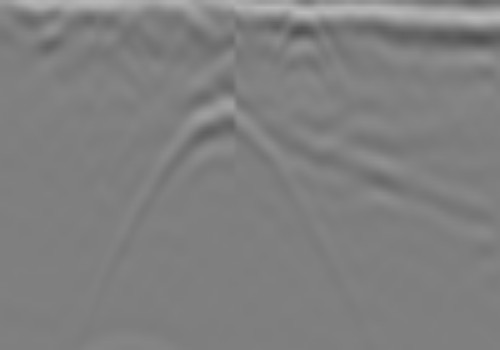hyperbola: (111, 98, 339, 297), (269, 1, 342, 89)
